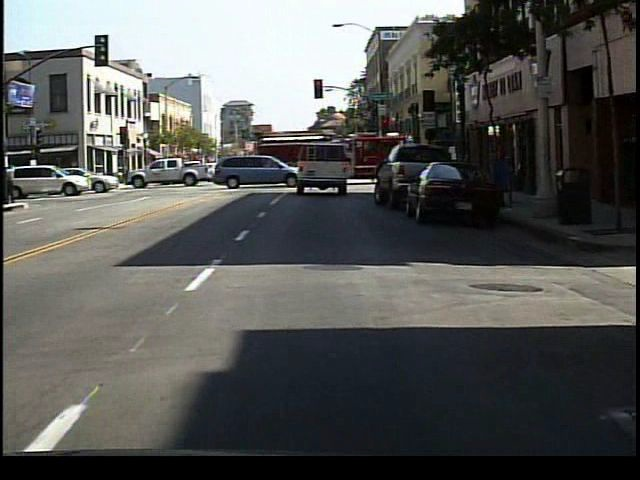person: (8, 160, 22, 208)
